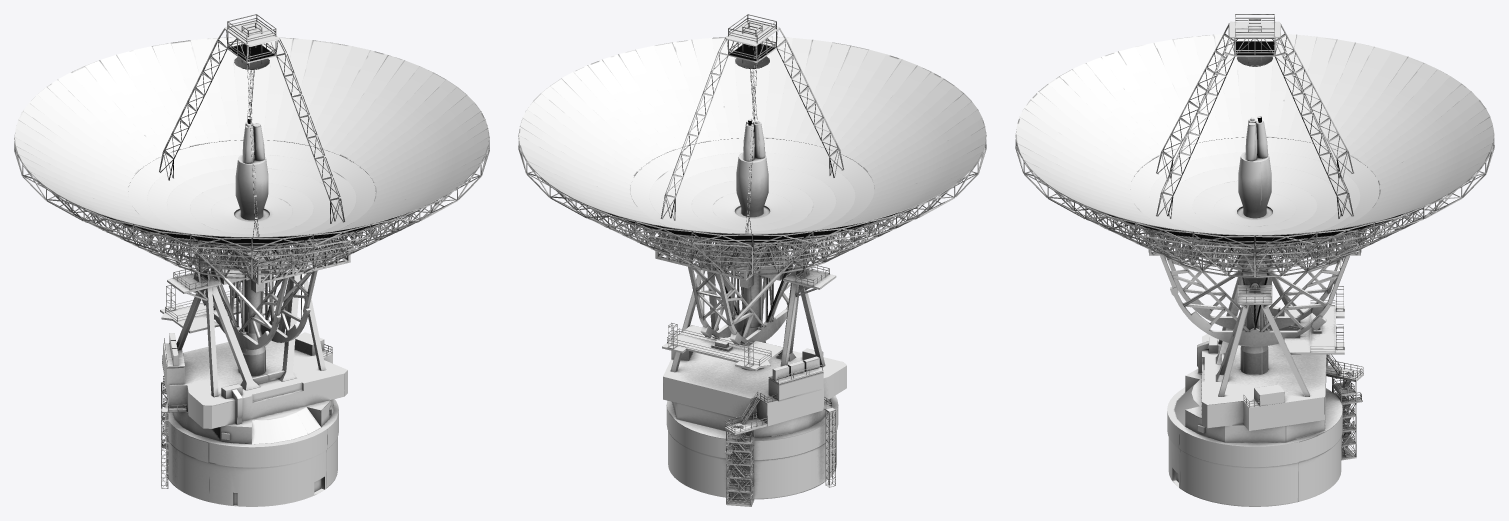
File: satelitte.obj
3 renders of one model, left to right at view 1: azimuth 30°, elevation 25°; view 2: azimuth 150°, elevation 25°; view 3: azimuth 270°, elevation 25°, orthographic. The views are drawn at different scales.
Visible parts, largest first — view 1: satelitte_base_Cylinder.016; view 2: satelitte_base_Cylinder.016; view 3: satelitte_base_Cylinder.016.
Boxes of the visible parts, x1,y1,x2,y2 form: satelitte_base_Cylinder.016: (14,14,489,506); satelitte_base_Cylinder.016: (518,14,986,506); satelitte_base_Cylinder.016: (1015,14,1494,506).
Bounding box in the file's own units: 4.08 × 4.25 × 4.08.
